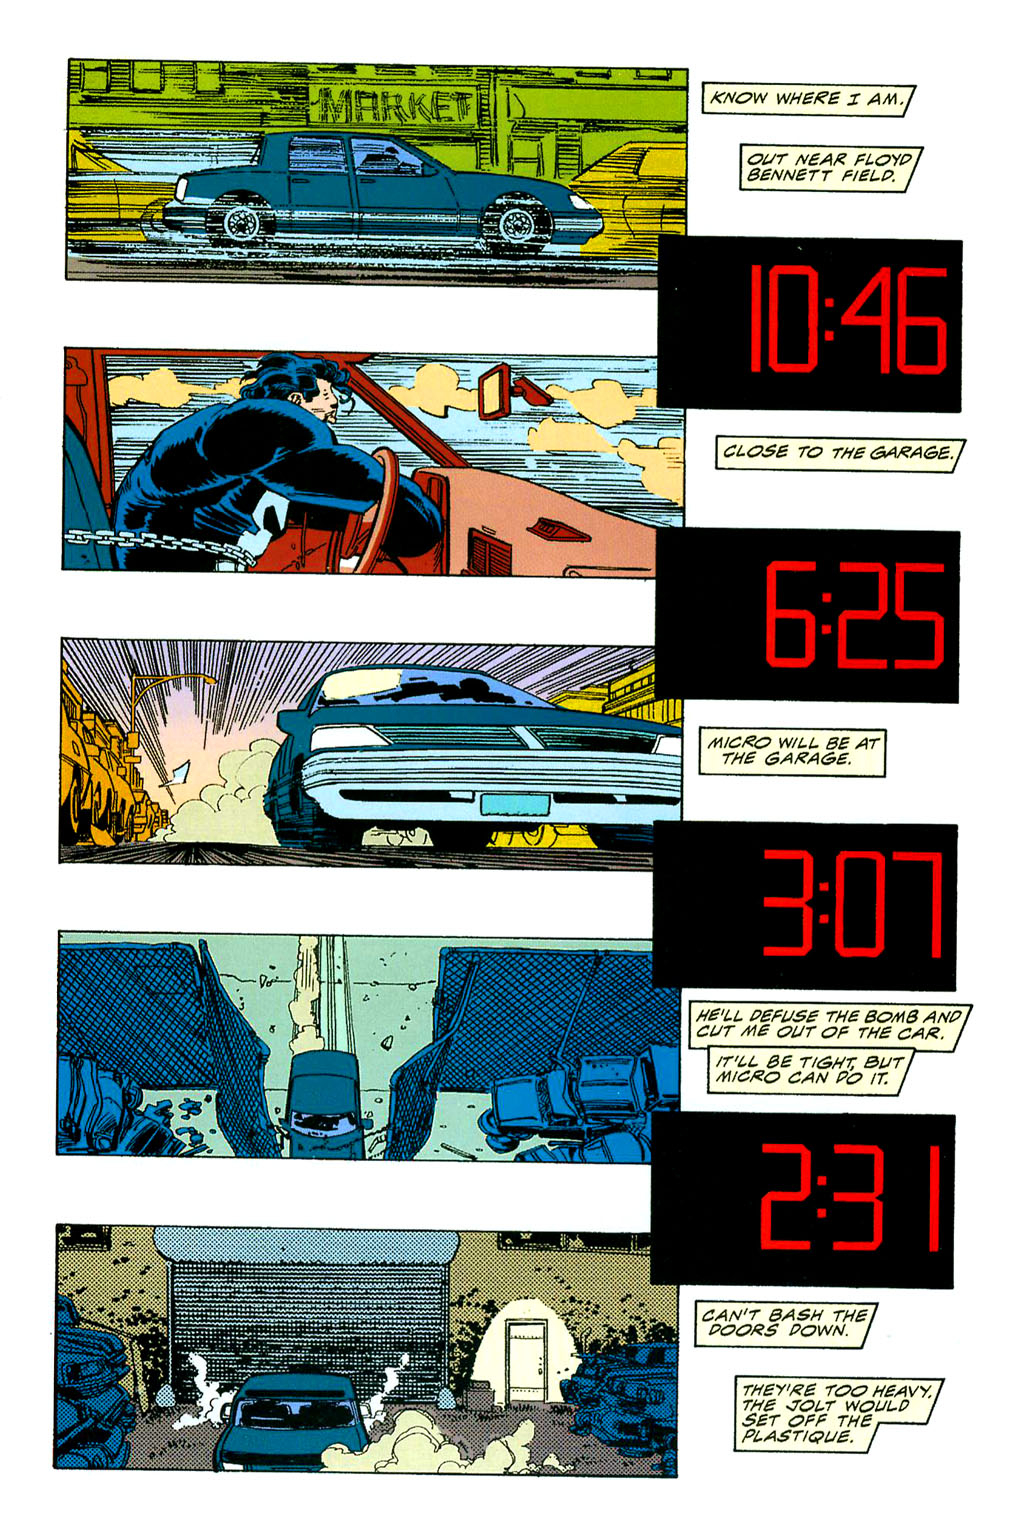Baloon: (734, 1364, 944, 1450), (689, 998, 975, 1054), (696, 724, 894, 781), (709, 1043, 918, 1093), (715, 433, 961, 474), (739, 138, 920, 193), (694, 1298, 873, 1351), (701, 83, 918, 119)
Vignetta: (53, 1226, 682, 1479), (63, 57, 693, 295), (63, 345, 687, 583), (58, 929, 680, 1164), (58, 637, 682, 871), (656, 526, 963, 707), (649, 1114, 953, 1291), (661, 236, 963, 412), (658, 817, 961, 993)
